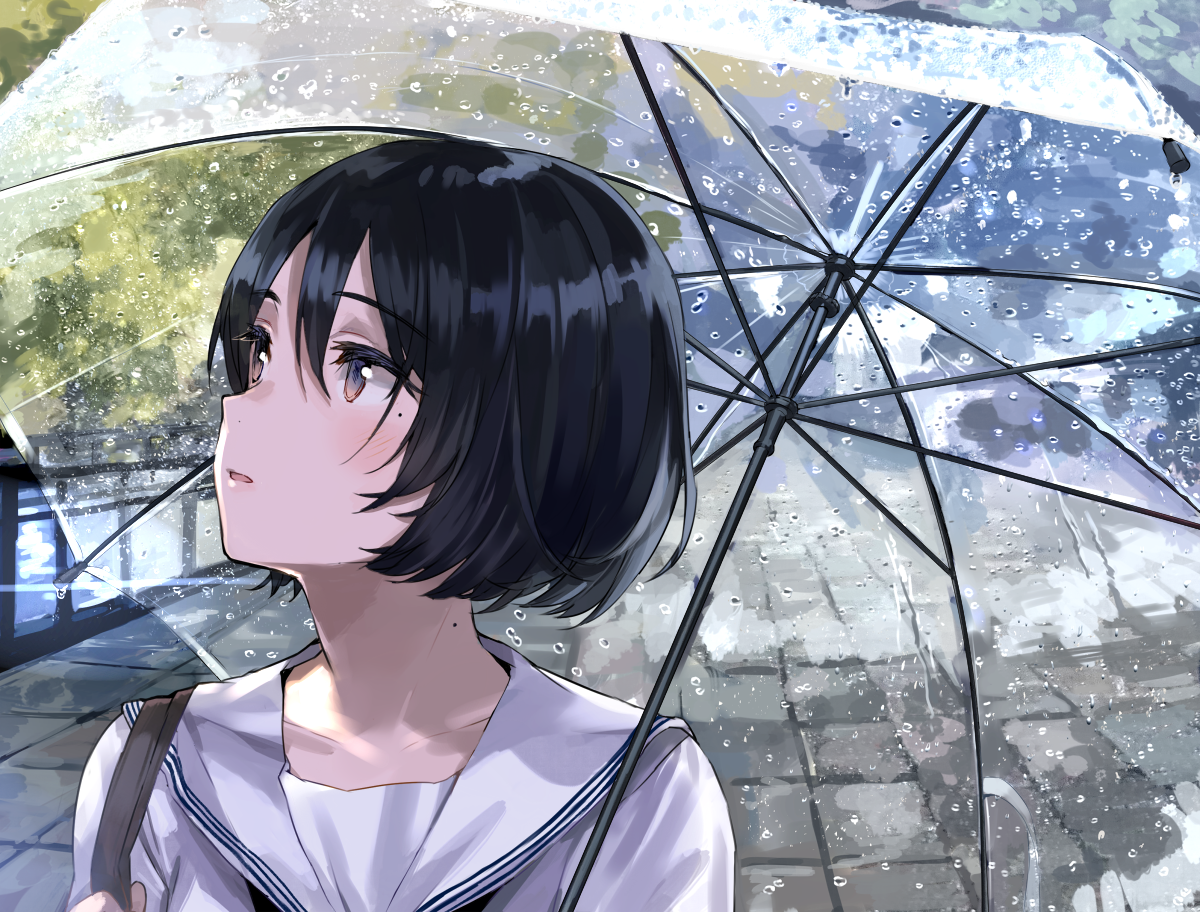纸片人正脸: (199, 138, 654, 589)
